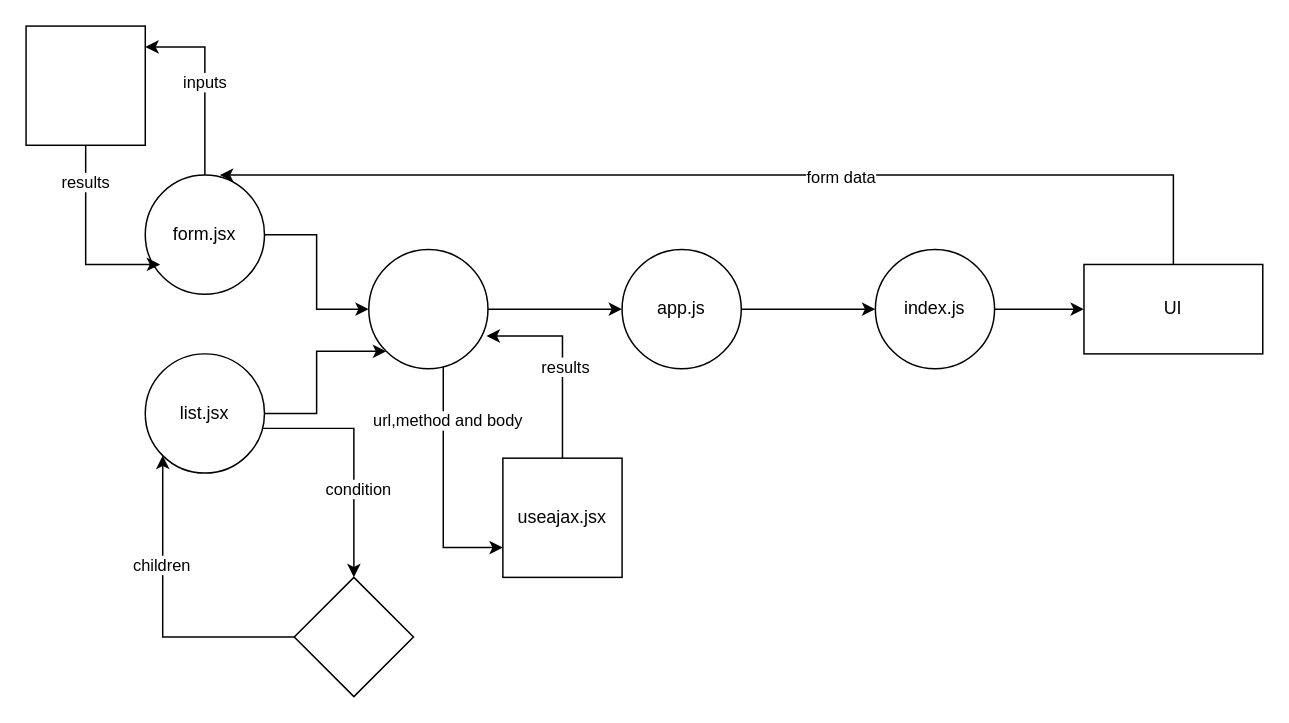
Image size: 1289x723. Some labels were removed from this diagram. Here are the shapes that lost their labels. From the top down, the box of each, then its label:
(25, 25, 145, 145): useform.jsx
(367, 248, 488, 369): todo-connected.jsx
(293, 576, 413, 697): if.jsx
